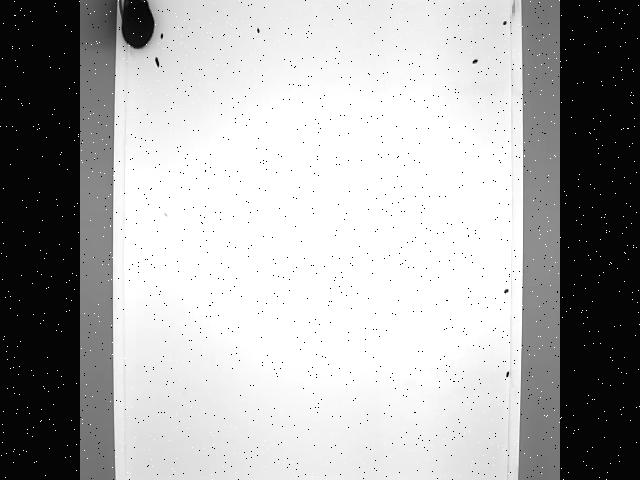Tikus: (116, 0, 153, 53)
